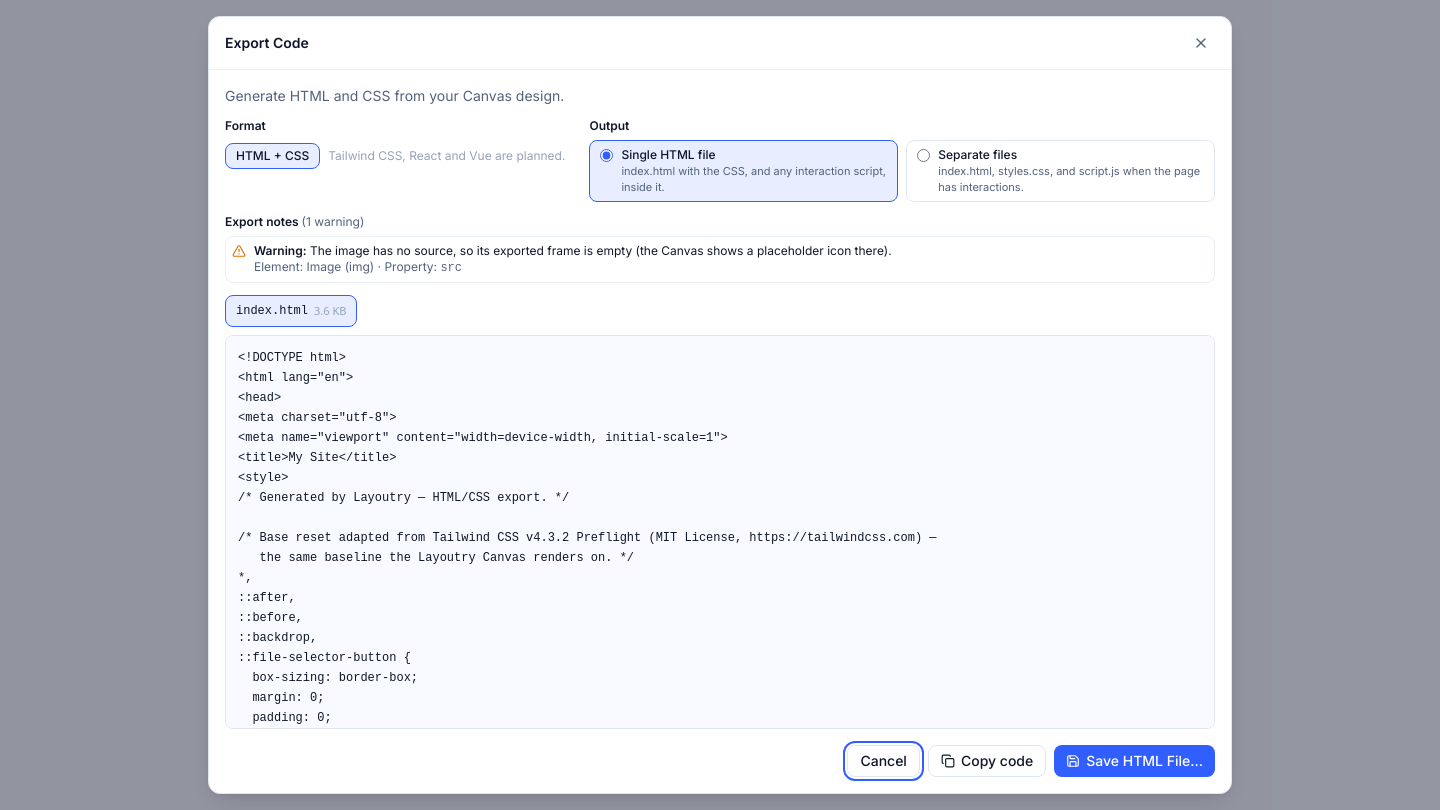
Test: ExportCodeDialog — desktop saving › keeps existing files when the user declines, and reports cancel and failures honestly
Click the button "Save HTML File…". click: [1135, 761]
box: top-left (1054, 745), bottom-right (1215, 777)
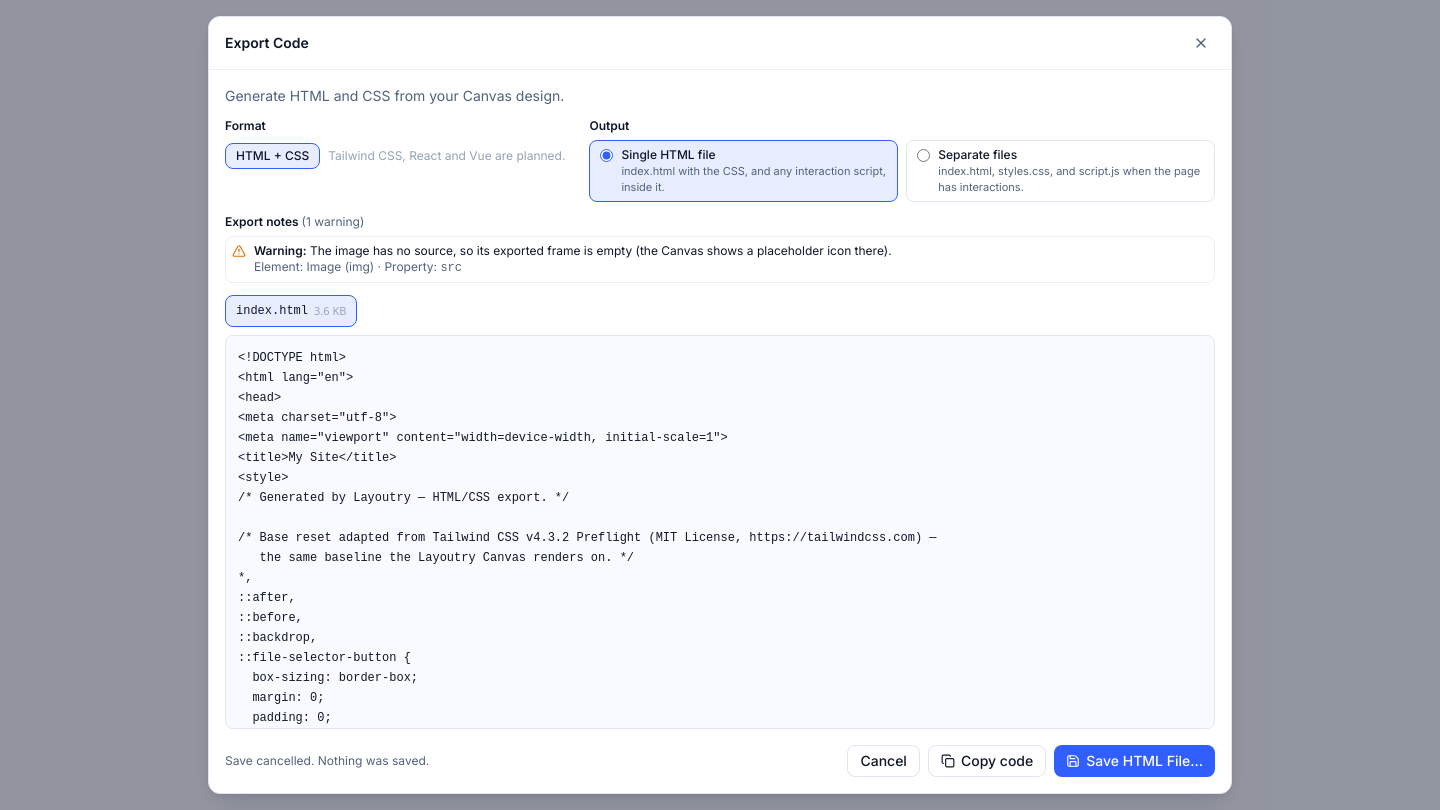
Now the text "Save cancelled. Nothing was saved." is shown, box top-left (225, 753), bottom-right (429, 768)
Click the button "Save HTML File…". click: [1135, 761]
box: top-left (1054, 745), bottom-right (1215, 777)
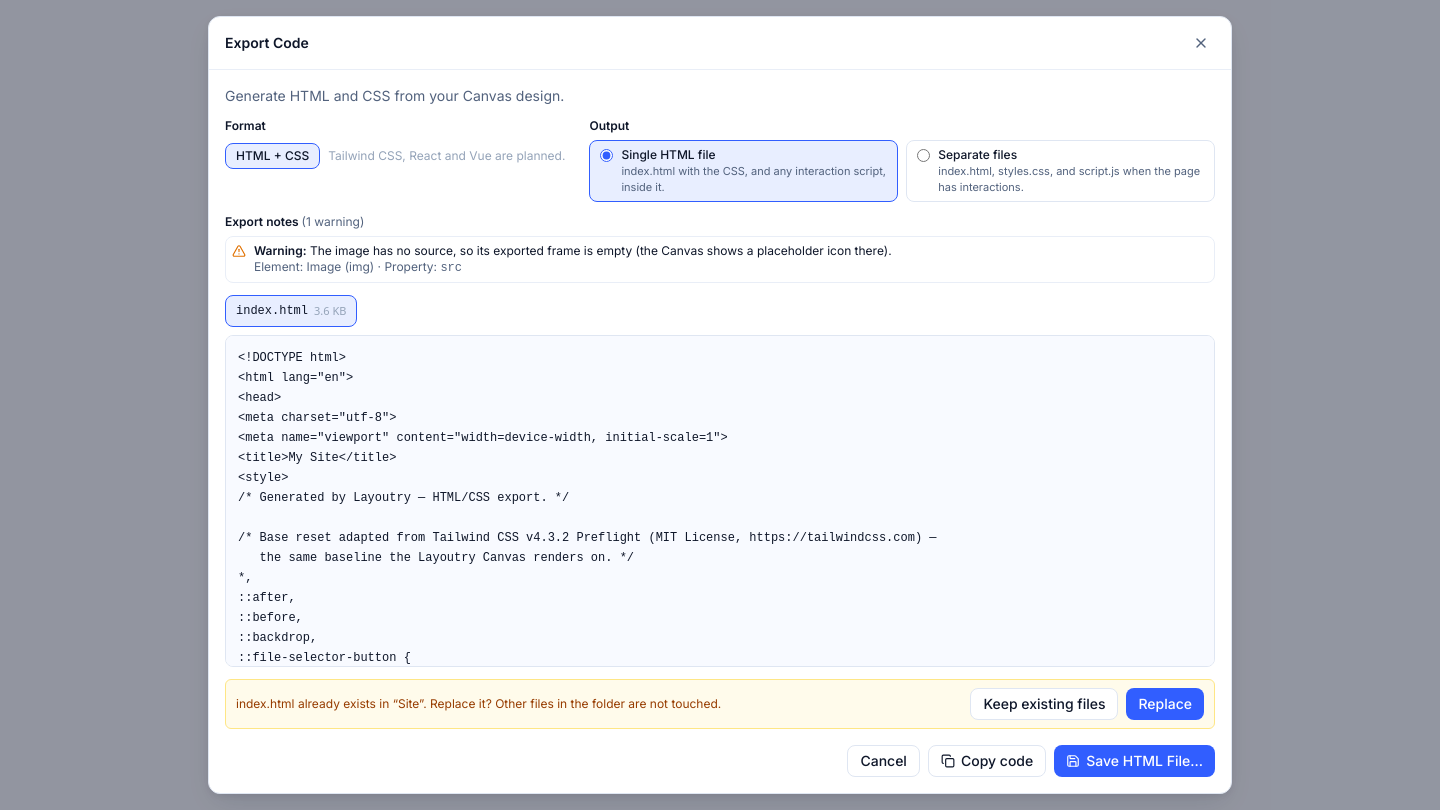
Click the button "Keep existing files". click: [1044, 704]
box: top-left (970, 688), bottom-right (1118, 720)
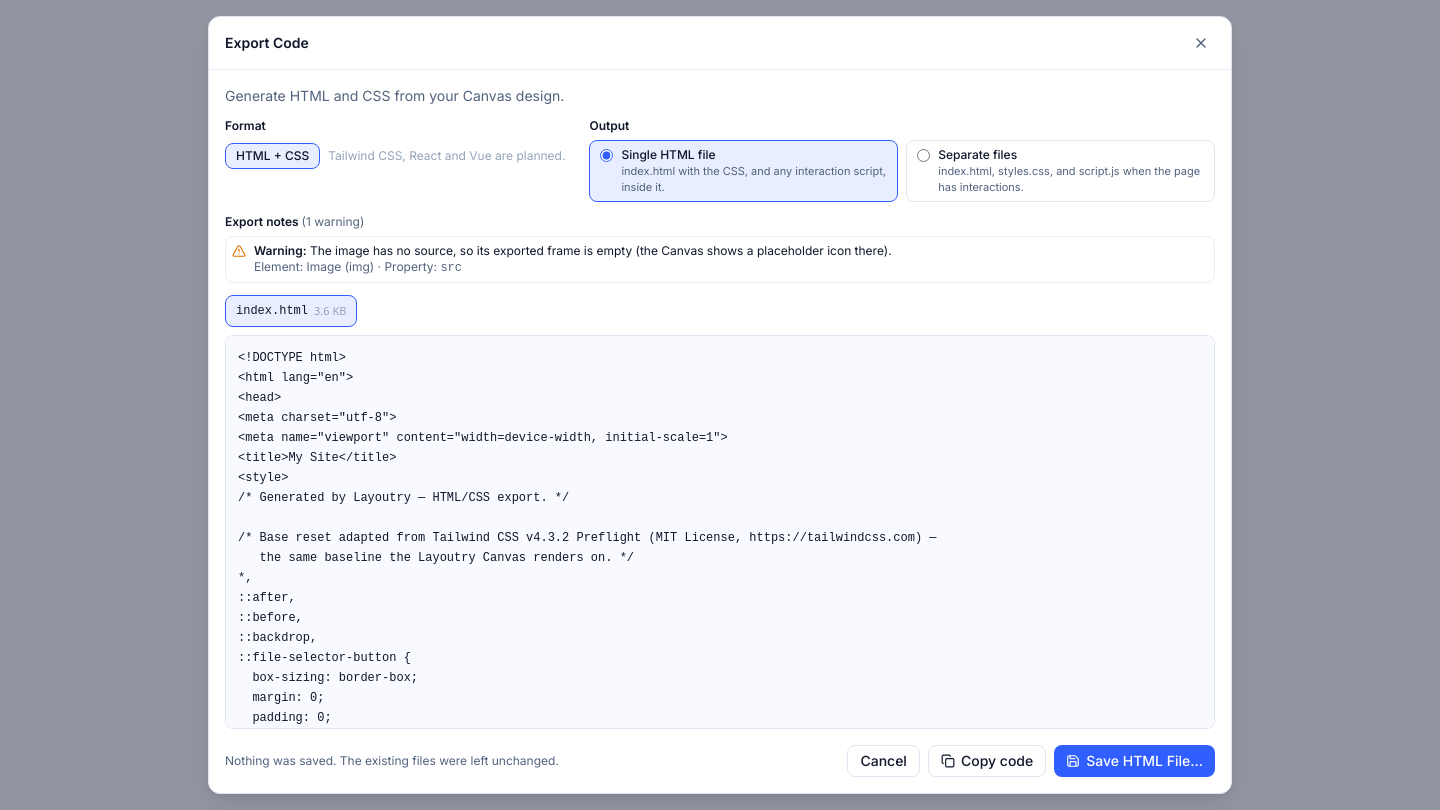
Now the text "Nothing was saved. The existing files were left unchanged." is shown, box top-left (225, 753), bottom-right (559, 768)
Click the button "Save HTML File…". click: [1135, 761]
box: top-left (1054, 745), bottom-right (1215, 777)
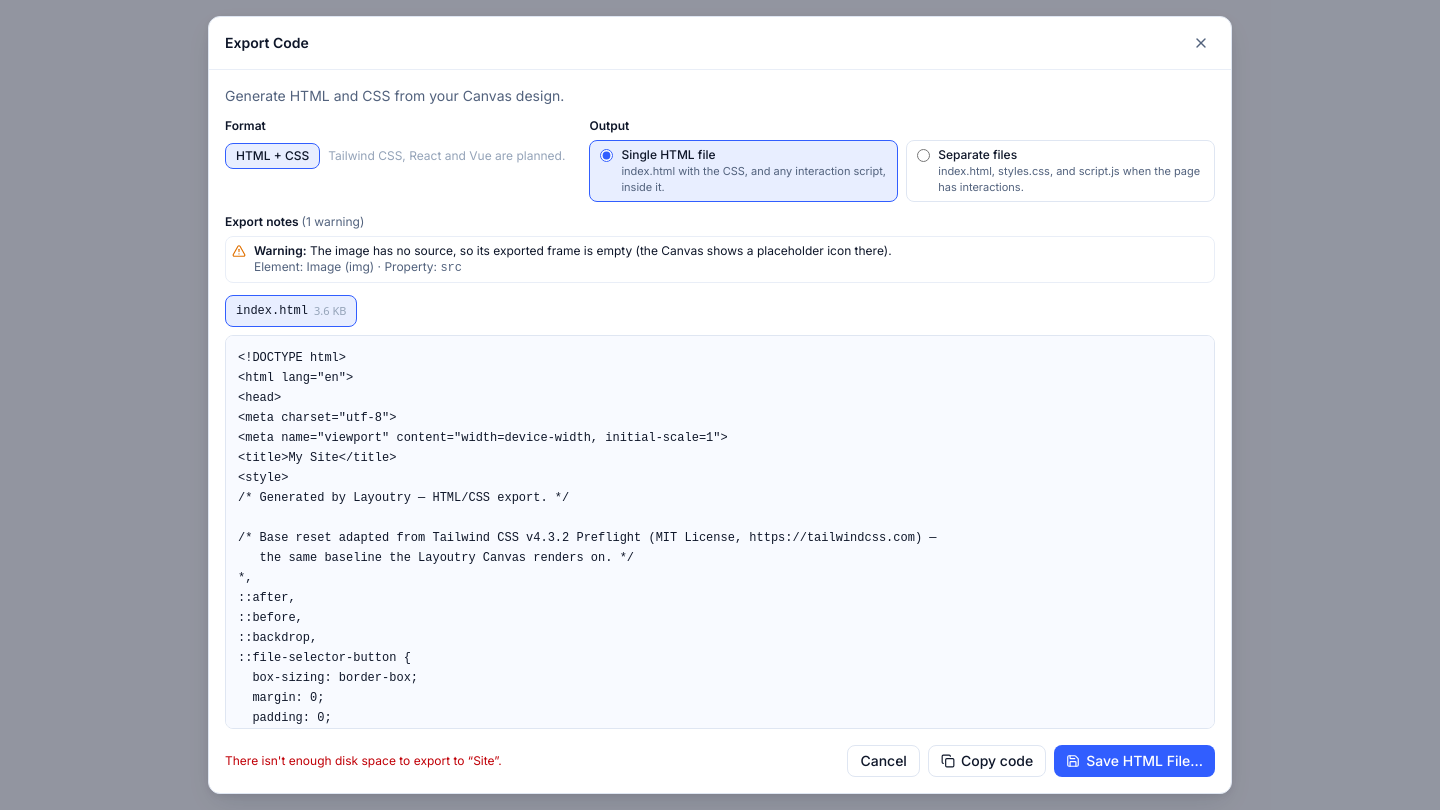
Now the message shows "There isn't enough disk space", box top-left (225, 753), bottom-right (502, 768)
